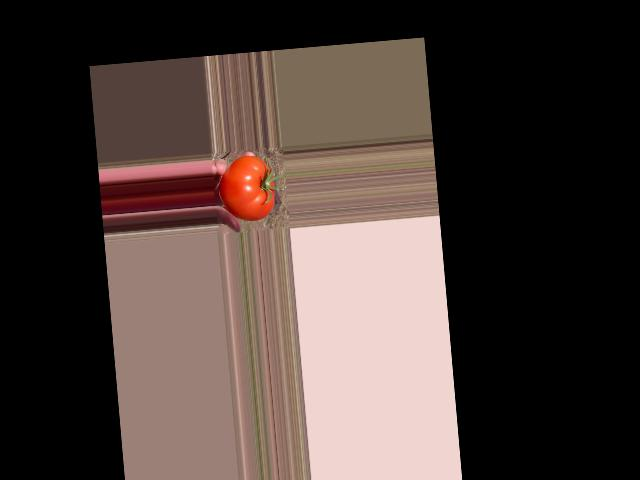tomato: (216, 153, 277, 223)
